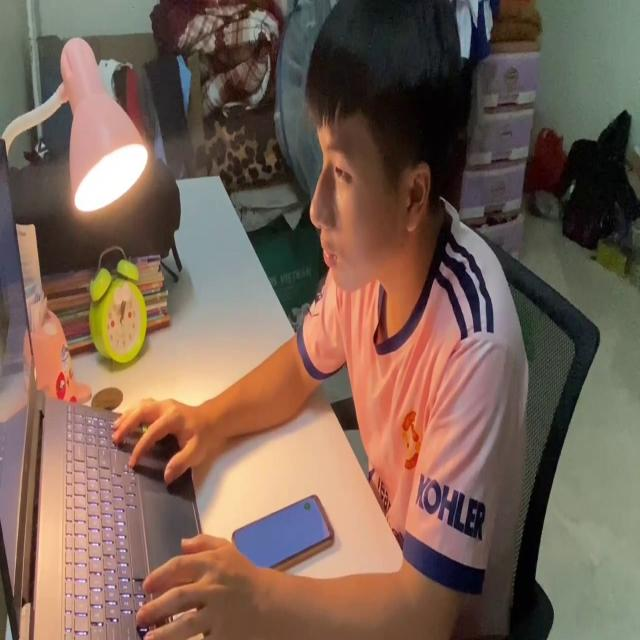laptop: (1, 133, 217, 640)
phone: (231, 487, 337, 575)
student: (111, 15, 529, 640)
